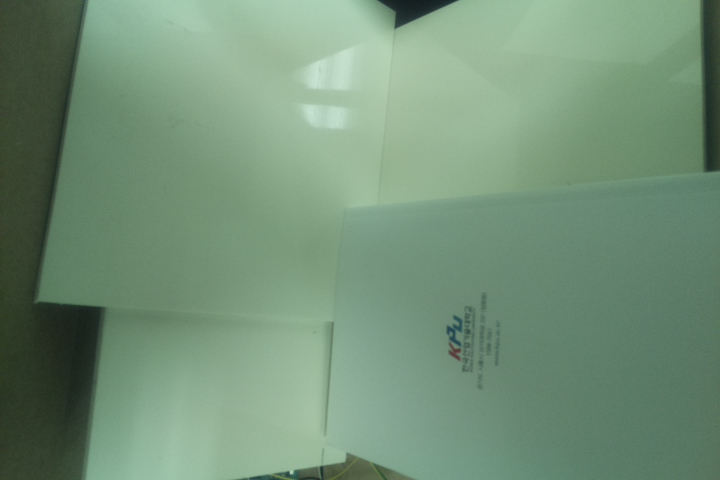book: (322, 166, 720, 480)
